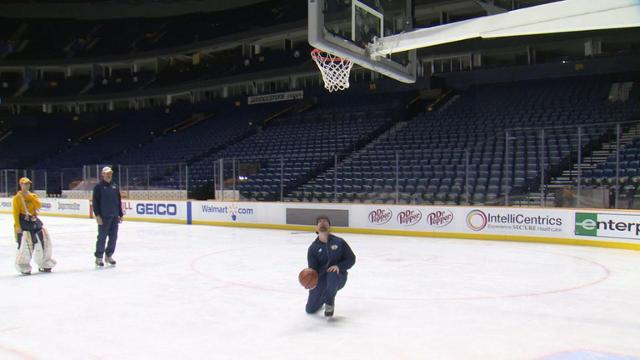geico: (135, 198, 179, 217)
